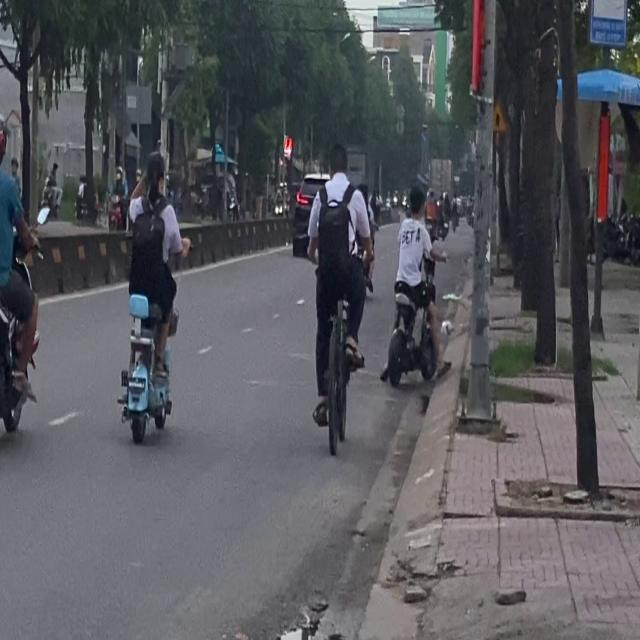licenseplate: (116, 140, 184, 444), (381, 181, 452, 395)
motorcyclist: (142, 149, 167, 200), (406, 186, 425, 222)
